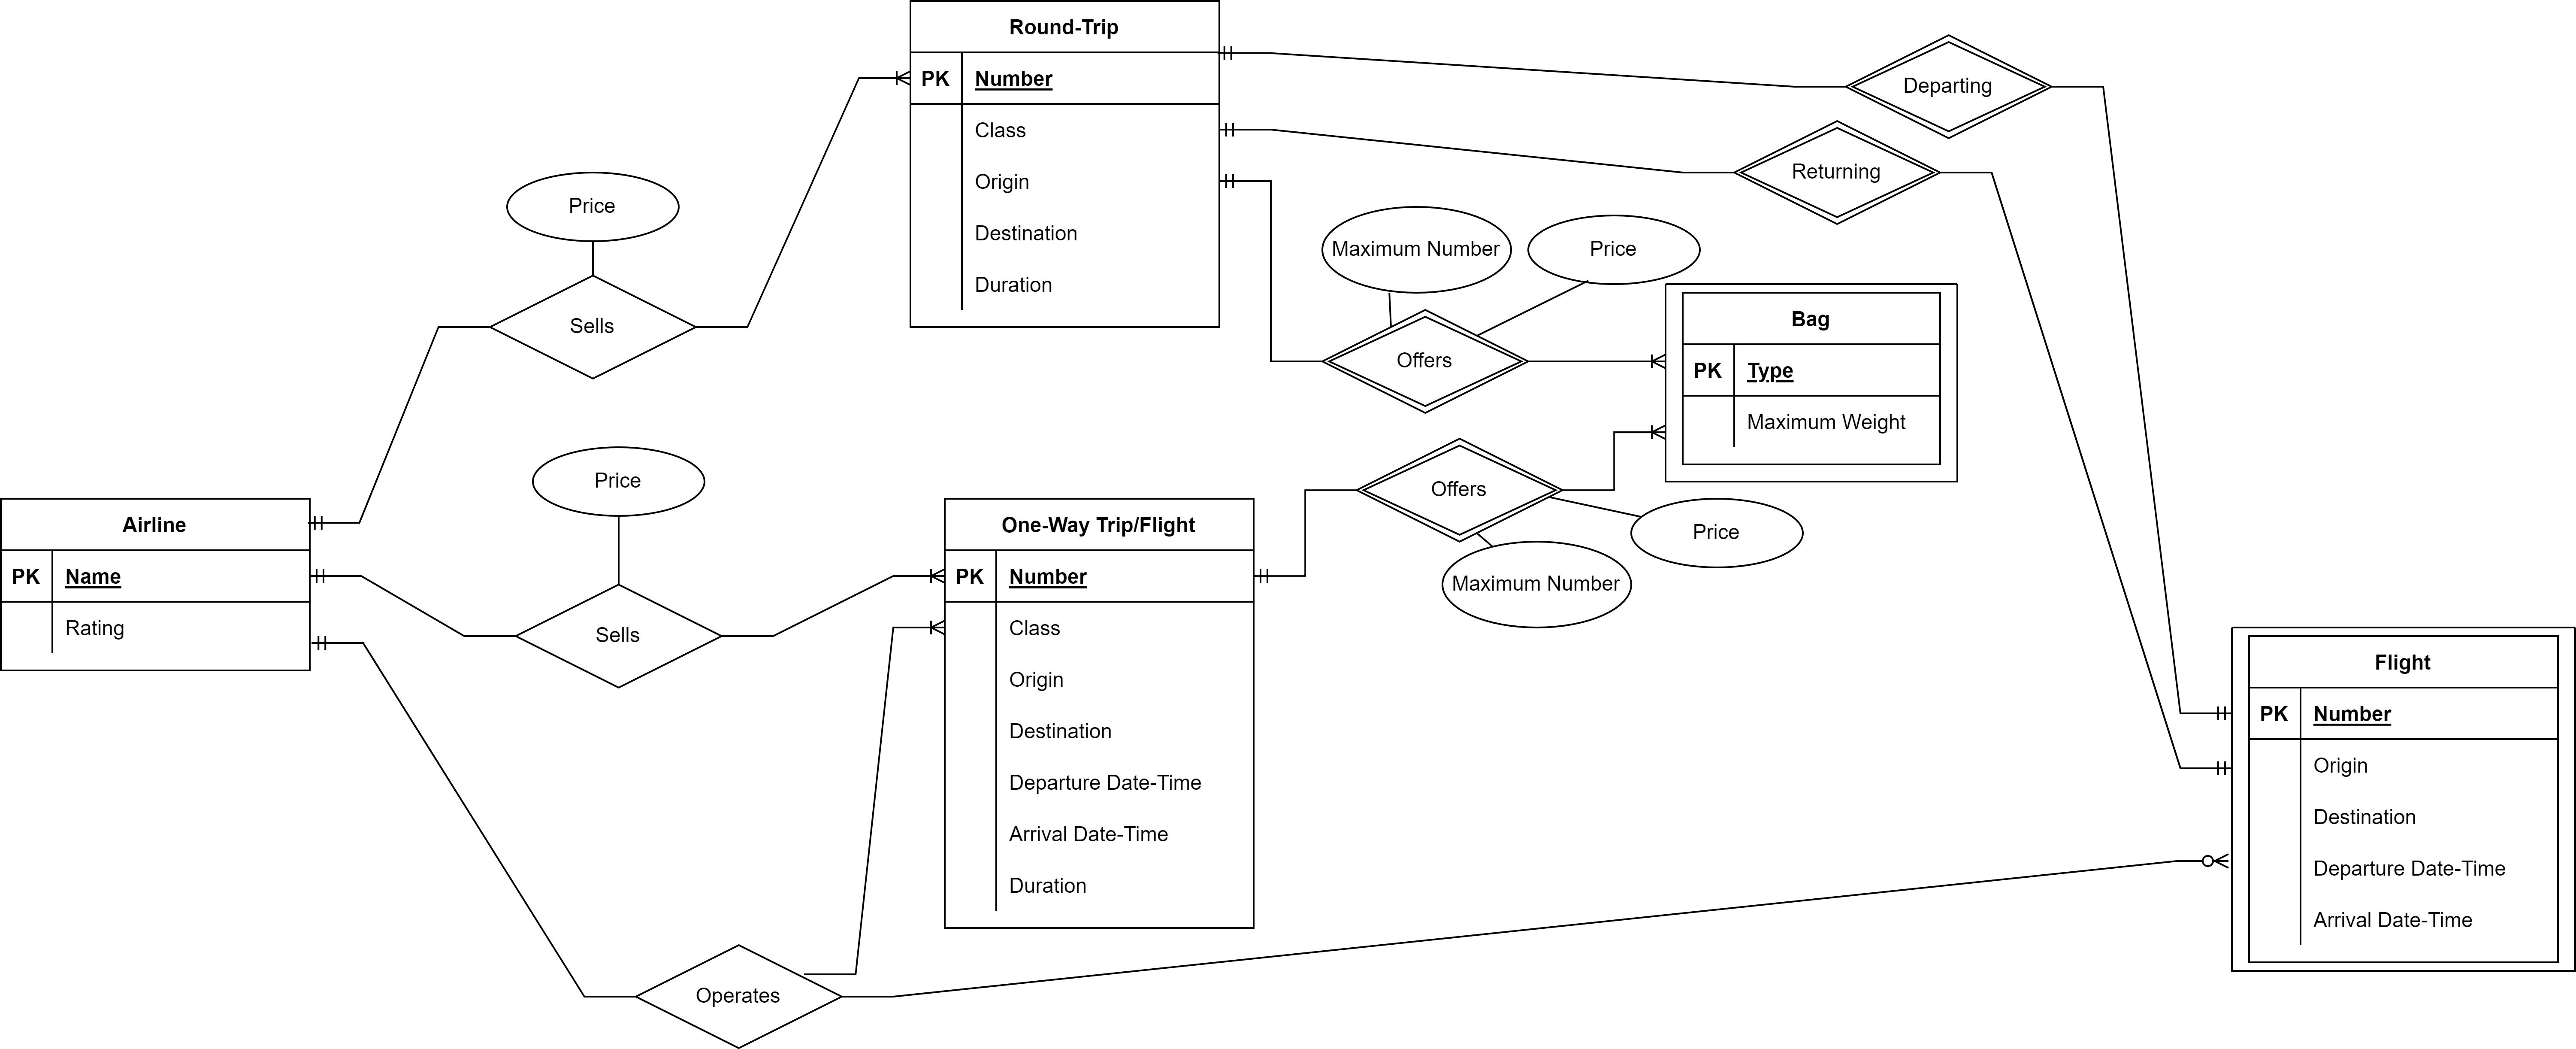attribute: (1319, 207, 1511, 298), (1444, 539, 1631, 628), (503, 168, 677, 245), (527, 444, 703, 518), (1528, 212, 1700, 284), (1630, 498, 1804, 567)
entity: (936, 483, 1262, 937), (908, 0, 1224, 330), (0, 498, 312, 676)
relationship: (637, 940, 835, 1049), (514, 587, 720, 689), (488, 278, 690, 375)
weakentity: (2228, 626, 2576, 975), (1664, 283, 1960, 483)
weakrelationship: (1321, 307, 1531, 414), (1735, 122, 1940, 225), (1355, 441, 1561, 543), (1847, 36, 2050, 138)
